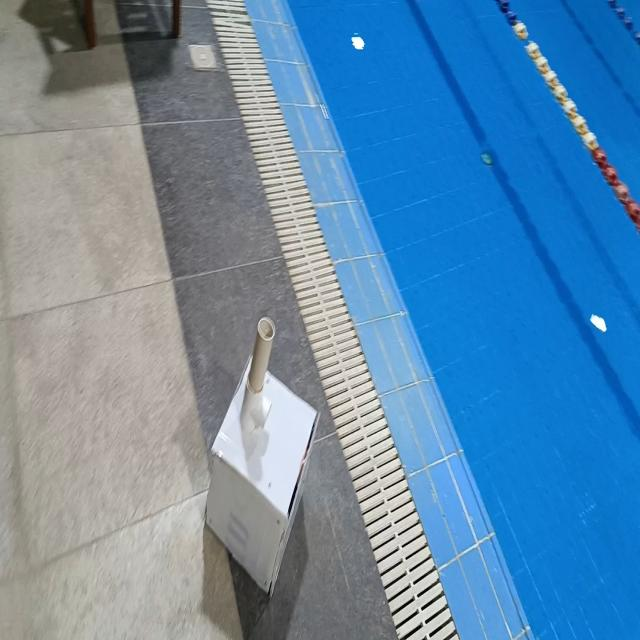Cube: (204, 352, 320, 598)
